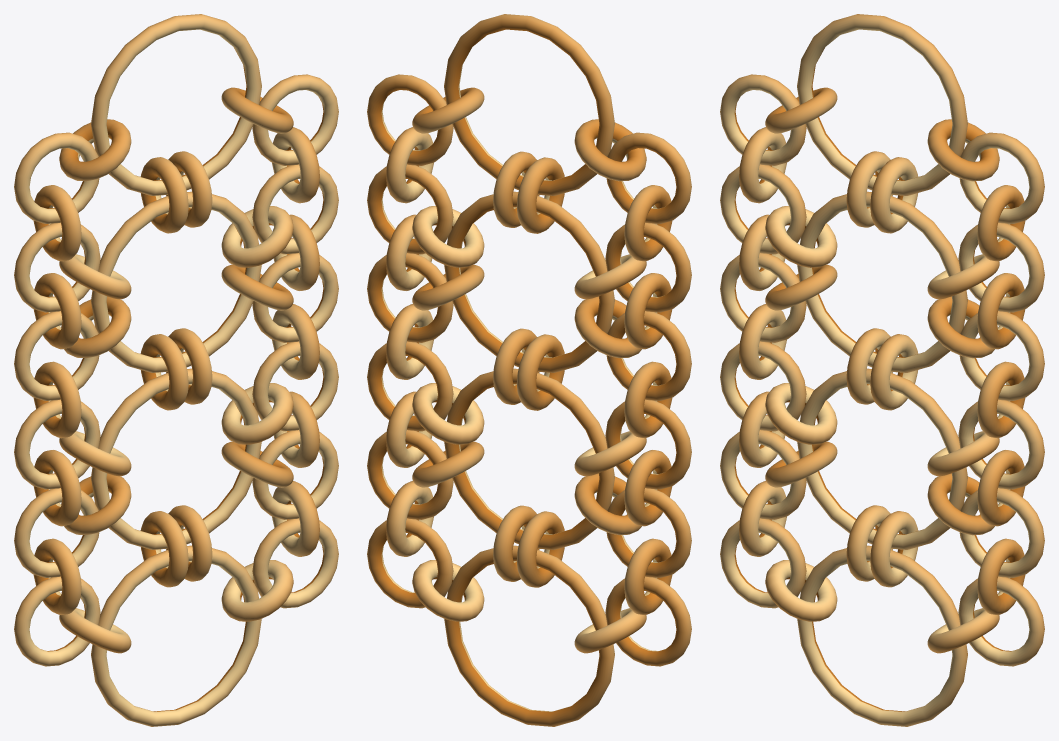
Rendered from hashigo_normal.fbx.
3 views of the same model, side by side, from view 1: azimuth 30°, elevation 25°; view 2: azimuth 150°, elevation 25°; view 3: azimuth 330°, elevation 25° (orthographic).
Visible parts, largest first — view 1: t1; view 2: t1; view 3: t1.
Boxes of the visible parts, bbox=[...] form: t1: bbox=[14, 14, 338, 726]; t1: bbox=[367, 14, 691, 726]; t1: bbox=[720, 14, 1044, 726].
Bounding box in the file's own units: 19.09 × 40 × 4.02.
